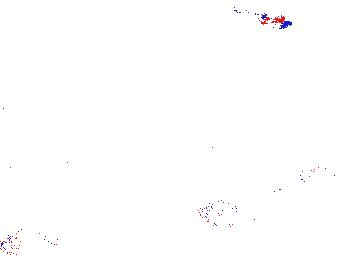X-ray fish: (198, 190, 255, 231)
red belly glassfish: (234, 7, 289, 30)
redtail glassfish: (278, 155, 346, 183), (174, 143, 233, 174), (263, 168, 320, 189)
